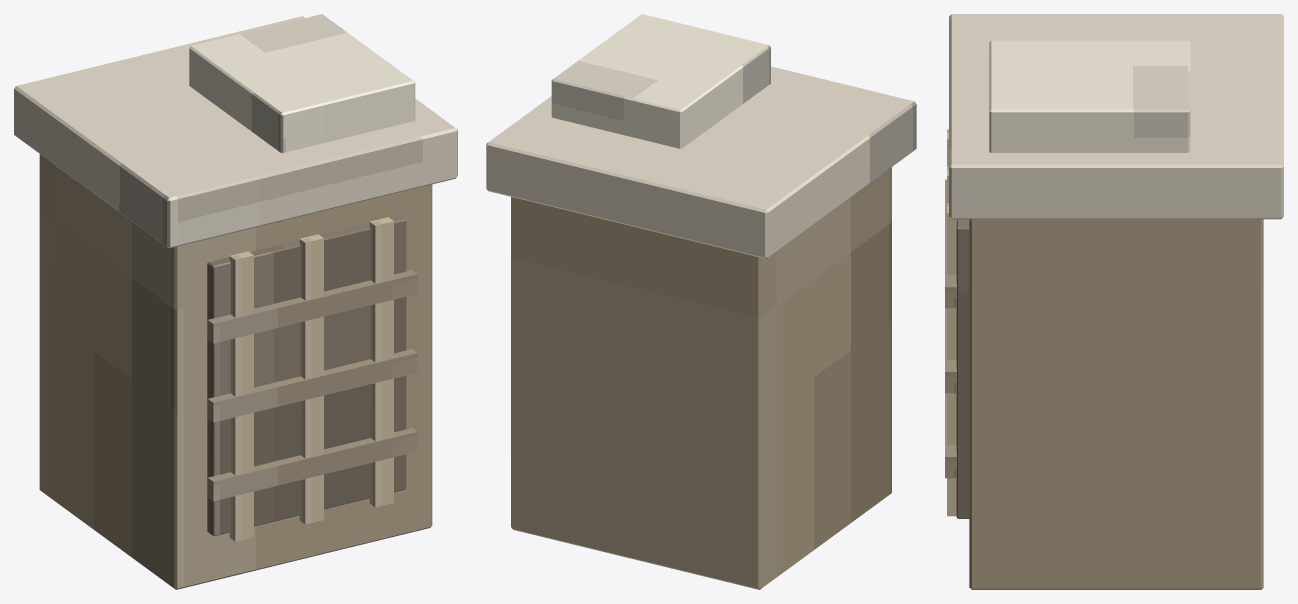
Rendered from laundry_hamper_ivory.glb.
3 views of the same model, side by side, from view 1: azimuth 30°, elevation 25°; view 2: azimuth 150°, elevation 25°; view 3: azimuth 270°, elevation 25° (orthographic). The views are drawn at different scales.
Visible parts, largest first — view 1: HamperBody, HamperRim, HamperInset, FoldedCloth, HamperWeaveV_-0.13, HamperWeaveV_0.13, HamperWeaveV_0.0, HamperWeaveH_0.48, HamperWeaveH_0.34, HamperWeaveH_0.2; view 2: HamperBody, HamperRim, FoldedCloth; view 3: HamperBody, HamperRim, FoldedCloth, HamperInset, HamperWeaveV_0.13, HamperWeaveH_0.48, HamperWeaveH_0.2, HamperWeaveH_0.34.
Boxes of the visible parts, bbox=[...] form: HamperBody: bbox=[39, 154, 432, 589]; HamperRim: bbox=[14, 16, 457, 248]; HamperInset: bbox=[207, 215, 406, 536]; FoldedCloth: bbox=[189, 14, 415, 152]; HamperWeaveV_-0.13: bbox=[229, 251, 253, 541]; HamperWeaveV_0.13: bbox=[369, 217, 393, 507]; HamperWeaveV_0.0: bbox=[299, 234, 323, 524]; HamperWeaveH_0.48: bbox=[207, 270, 417, 343]; HamperWeaveH_0.34: bbox=[207, 349, 417, 422]; HamperWeaveH_0.2: bbox=[207, 428, 417, 501]; HamperBody: bbox=[511, 167, 891, 589]; HamperRim: bbox=[486, 66, 916, 258]; FoldedCloth: bbox=[551, 14, 770, 148]; HamperBody: bbox=[969, 219, 1263, 589]; HamperRim: bbox=[949, 14, 1283, 219]; FoldedCloth: bbox=[989, 40, 1190, 152]; HamperInset: bbox=[956, 219, 969, 518]; HamperWeaveV_0.13: bbox=[947, 203, 957, 516]; HamperWeaveH_0.48: bbox=[945, 179, 956, 308]; HamperWeaveH_0.2: bbox=[945, 393, 956, 478]; HamperWeaveH_0.34: bbox=[945, 308, 956, 393].
Bounding box in the file's own units: 0.54 × 0.785 × 0.506.
1 material, 1 textured.
